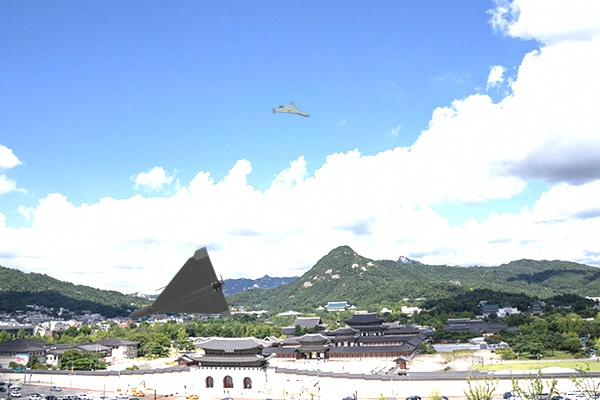shahed: (128, 245, 232, 320), (272, 100, 311, 120)
